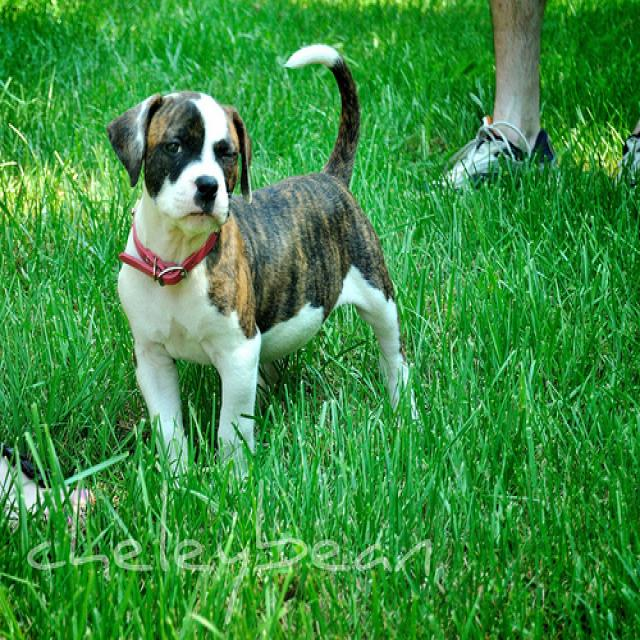dog-american_bulldog: (100, 38, 422, 493)
